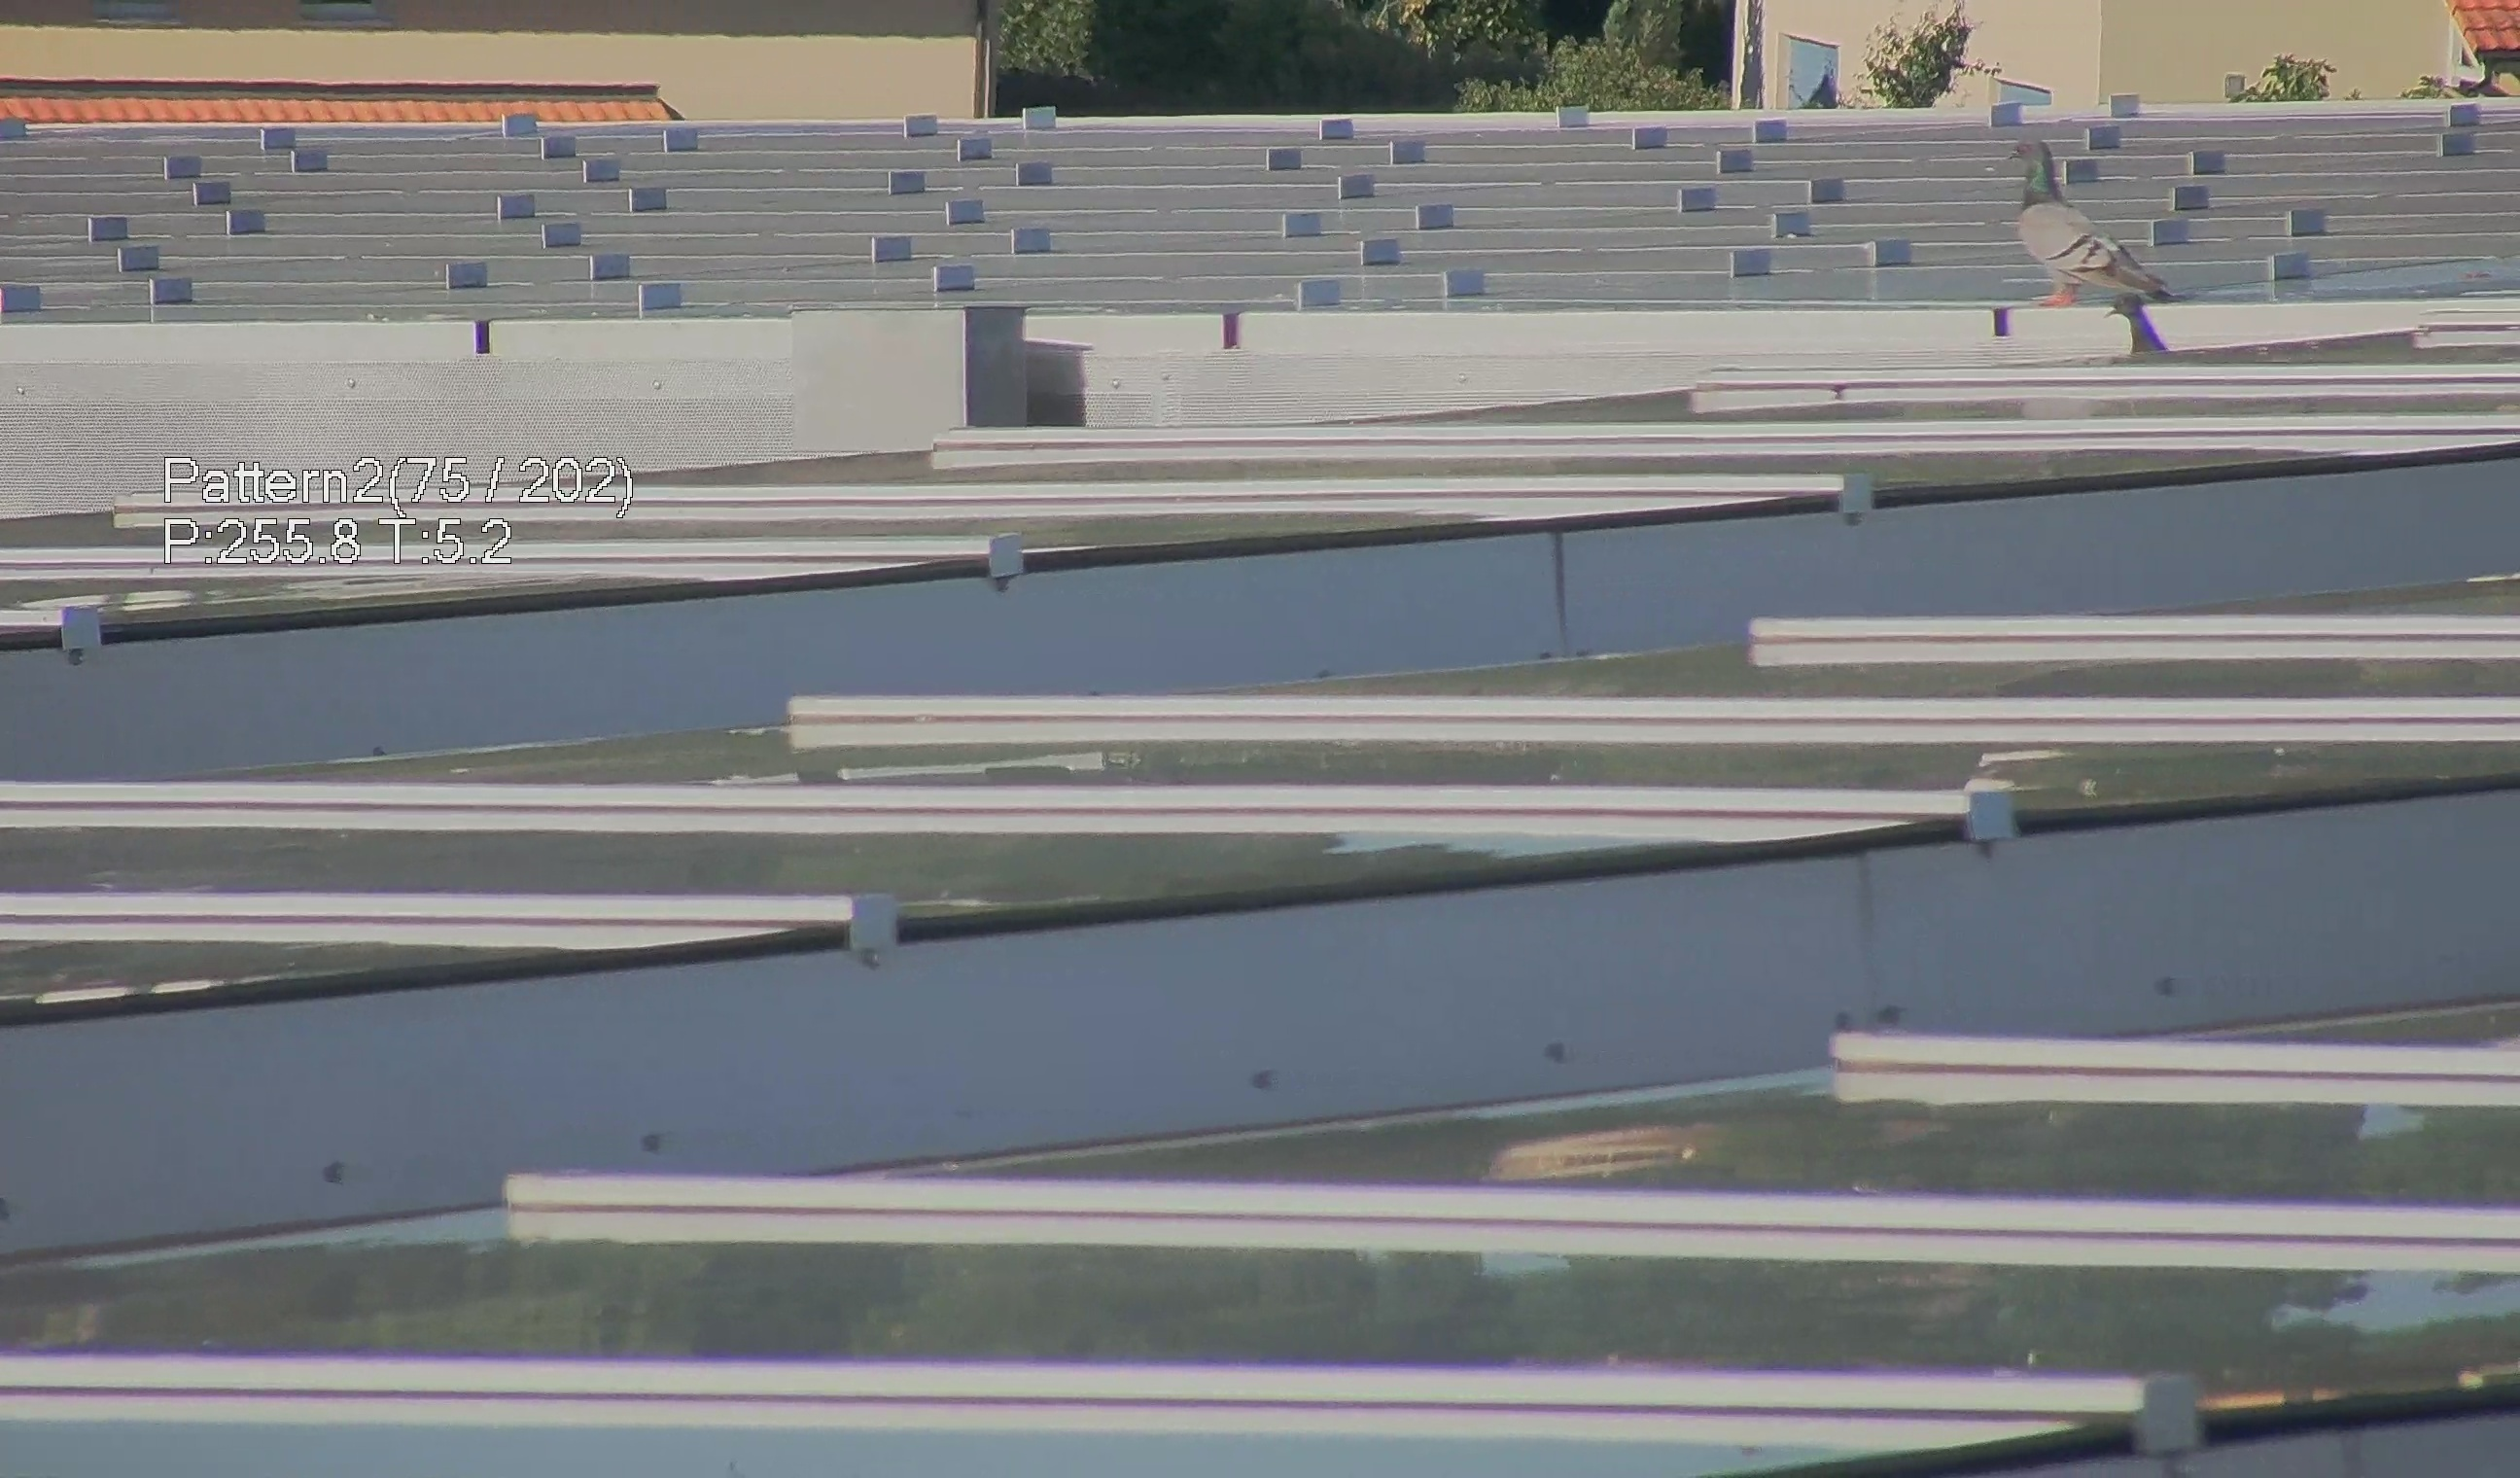Pigeon: (1989, 135, 2189, 352), (2091, 285, 2181, 368)
